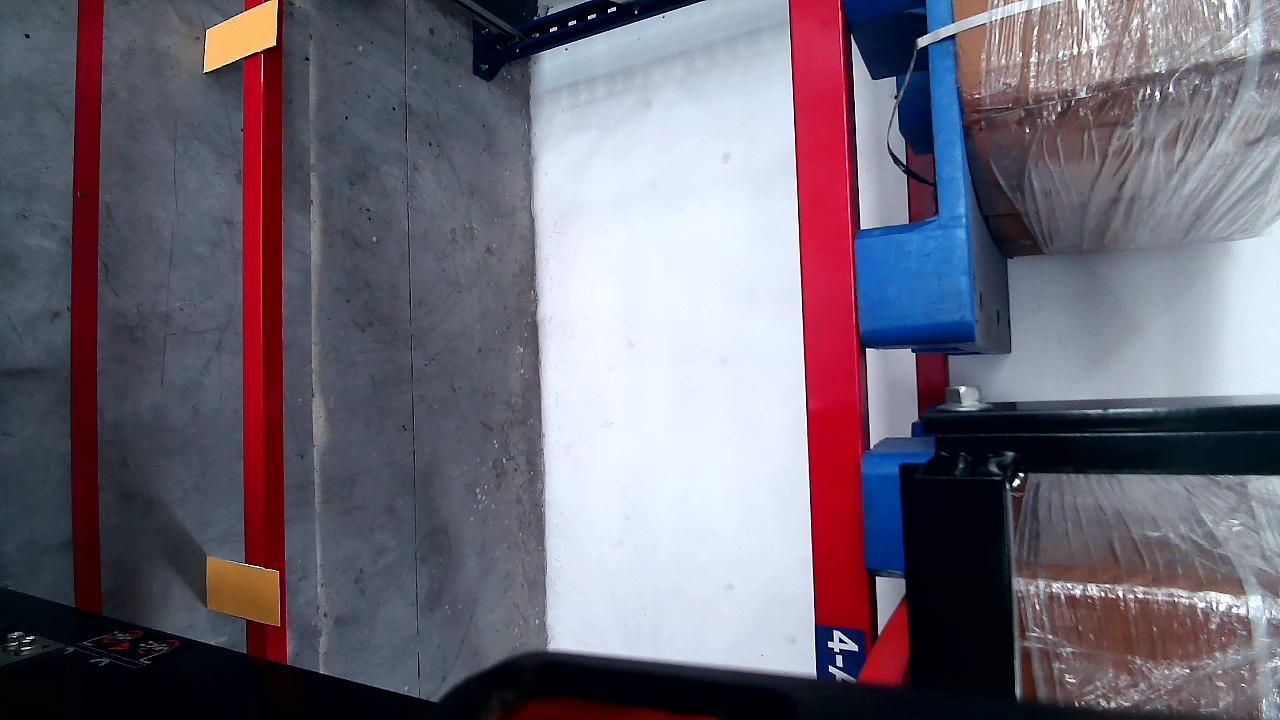red_line: (70, 0, 107, 611)
